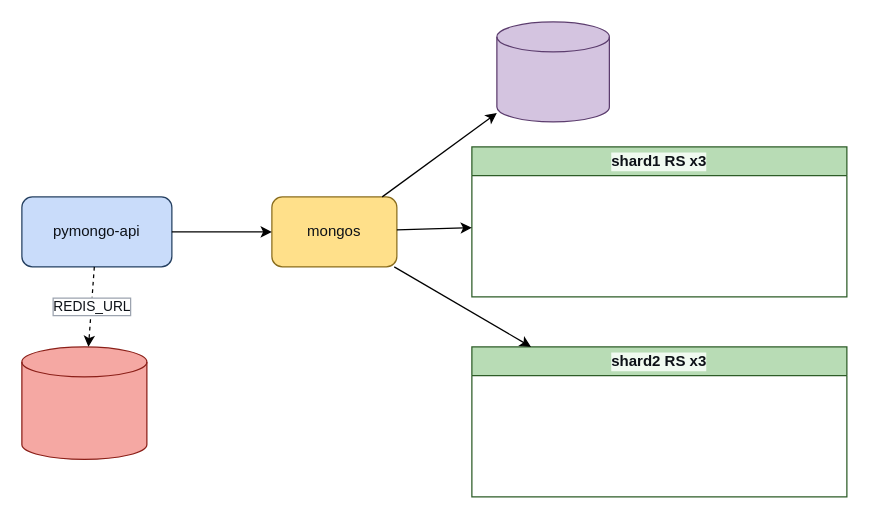
Image size: 869x519. Some labels were removed from this diagram. The box of each missing label's shape, as (x1, y1, x2, y2) in pixels:
configSrv: (496, 21, 609, 122)
redis (cache): (21, 346, 147, 459)
